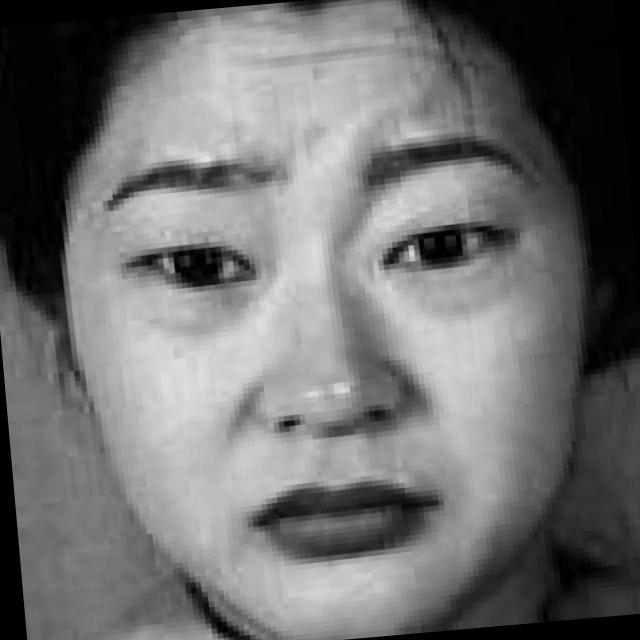fear: (27, 26, 574, 640)
